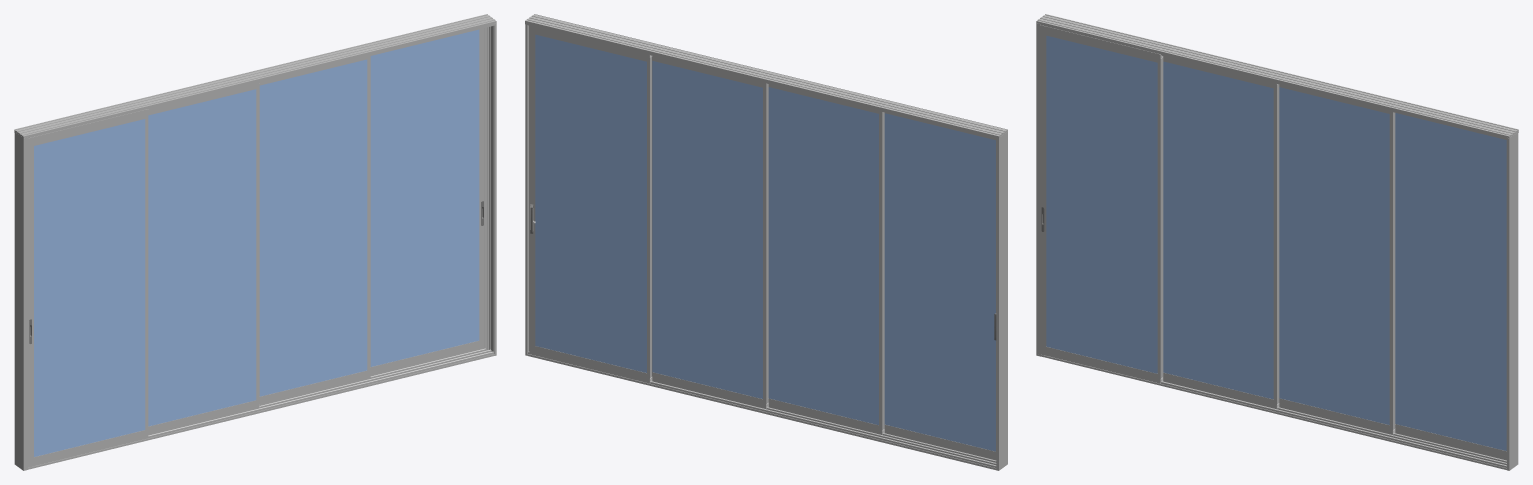
The model's file is Sliding Glass (4).glb.
The picture shows the model from 3 angles, left to right: view 1: azimuth 30°, elevation 25°; view 2: azimuth 150°, elevation 25°; view 3: azimuth 330°, elevation 25°; orthographic projection.
Visible parts, largest first — view 1: 3DGeom-6 (×2), 3DGeom-16, 3DGeom-24, 3DGeom-1, 3DGeom-4 (×2), 3DGeom-18, 3DGeom-27, 3DGeom-2; view 2: 3DGeom-6 (×2), 3DGeom-24, 3DGeom-16, 3DGeom-1, 3DGeom-4 (×2), 3DGeom-27, 3DGeom-18, 3DGeom-2; view 3: 3DGeom-6 (×2), 3DGeom-24, 3DGeom-16, 3DGeom-1, 3DGeom-4 (×2), 3DGeom-18, 3DGeom-27, 3DGeom-2.
Boxes of the visible parts, x1=… form: 3DGeom-6 (×2): x1=148, y1=59, x2=367, y2=426; 3DGeom-16: x1=34, y1=119, x2=145, y2=456; 3DGeom-24: x1=370, y1=29, x2=479, y2=366; 3DGeom-1: x1=14, y1=14, x2=496, y2=470; 3DGeom-4 (×2): x1=148, y1=56, x2=370, y2=435; 3DGeom-18: x1=28, y1=109, x2=148, y2=467; 3DGeom-27: x1=370, y1=28, x2=484, y2=375; 3DGeom-2: x1=148, y1=348, x2=493, y2=435; 3DGeom-6 (×2): x1=652, y1=61, x2=878, y2=425; 3DGeom-24: x1=535, y1=34, x2=646, y2=372; 3DGeom-16: x1=884, y1=113, x2=995, y2=451; 3DGeom-1: x1=525, y1=14, x2=1007, y2=470; 3DGeom-4 (×2): x1=652, y1=55, x2=884, y2=434; 3DGeom-27: x1=529, y1=25, x2=651, y2=382; 3DGeom-18: x1=884, y1=112, x2=996, y2=460; 3DGeom-2: x1=528, y1=351, x2=996, y2=465; 3DGeom-6 (×2): x1=1163, y1=61, x2=1389, y2=424; 3DGeom-24: x1=1395, y1=113, x2=1506, y2=450; 3DGeom-16: x1=1046, y1=35, x2=1157, y2=373; 3DGeom-1: x1=1036, y1=14, x2=1518, y2=470; 3DGeom-4 (×2): x1=1163, y1=56, x2=1395, y2=434; 3DGeom-18: x1=1040, y1=25, x2=1162, y2=383; 3DGeom-27: x1=1395, y1=113, x2=1506, y2=460; 3DGeom-2: x1=1161, y1=381, x2=1506, y2=465.
Size of the model in its own units: 3.93 by 2.65 by 0.1681.
